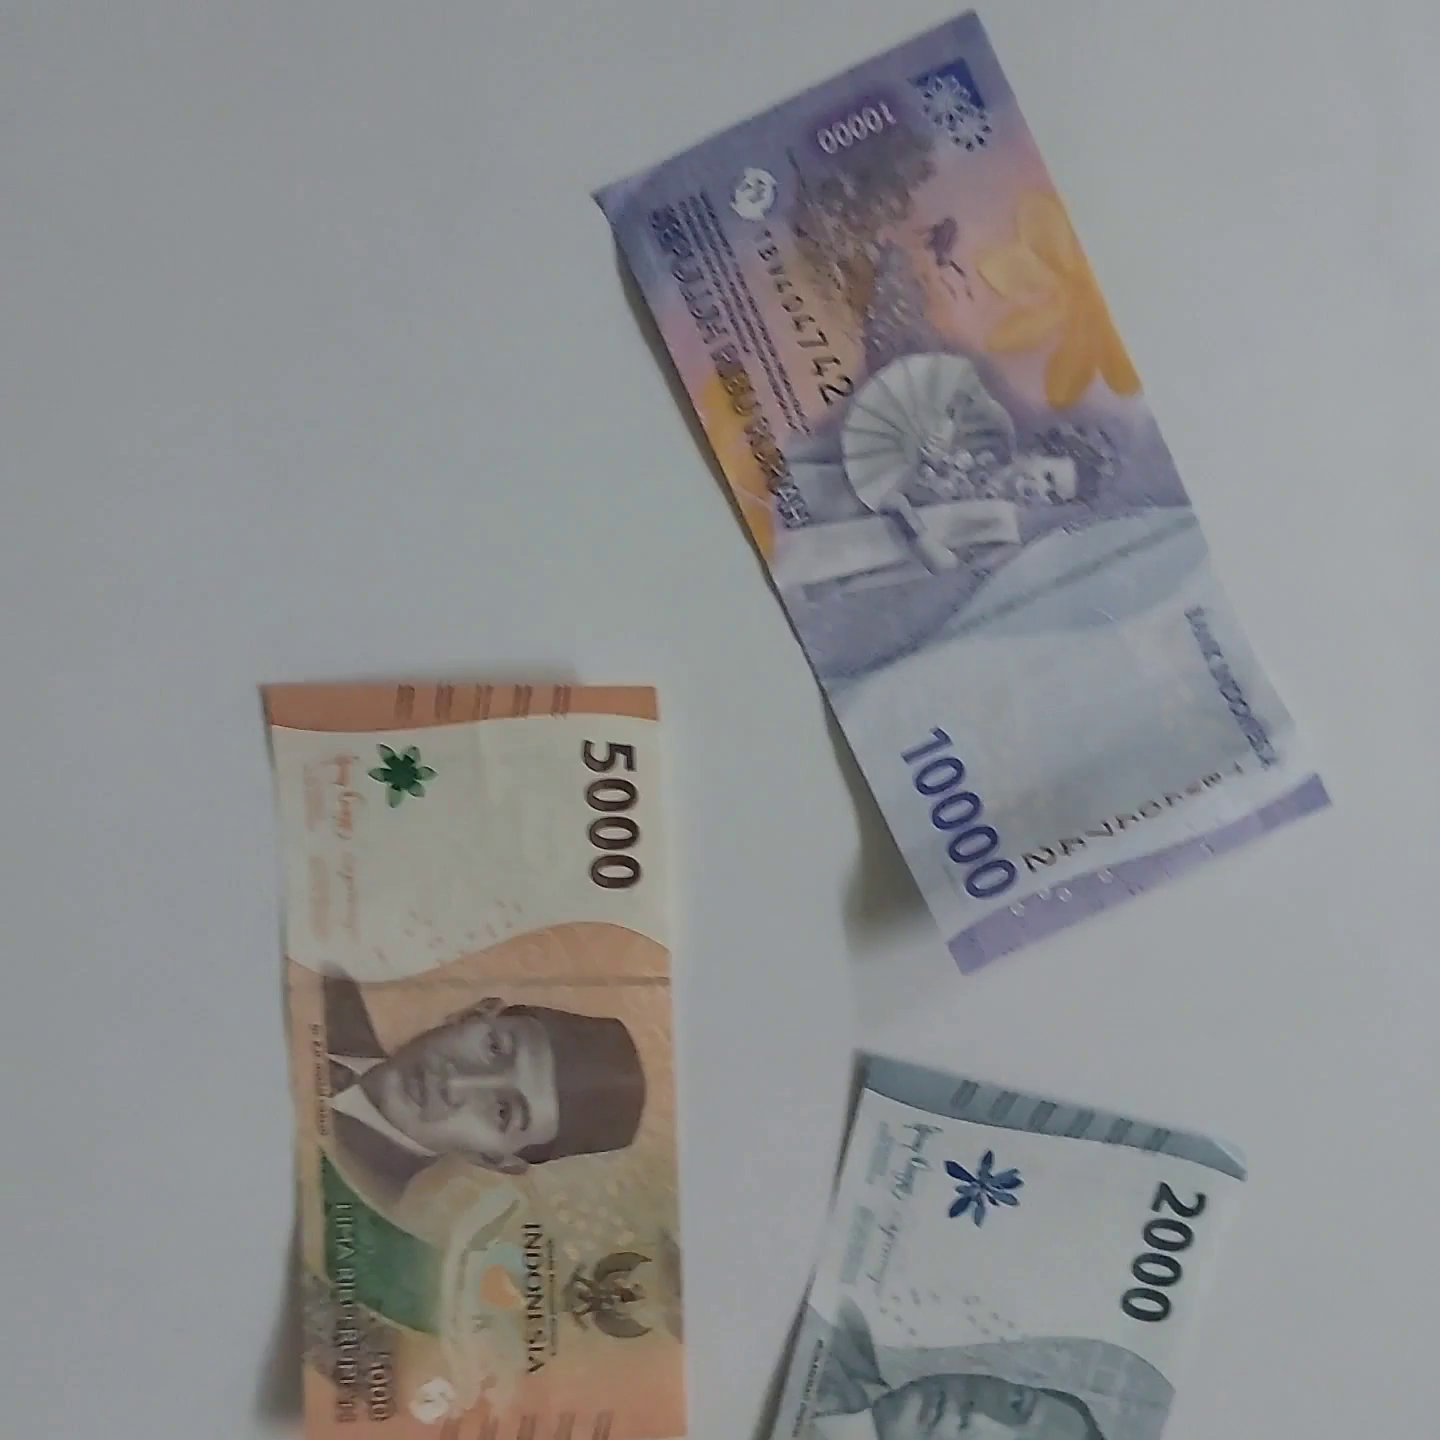10k: (568, 186, 984, 1084)
2k: (723, 1104, 1321, 1440)
5k: (203, 622, 720, 1440)
